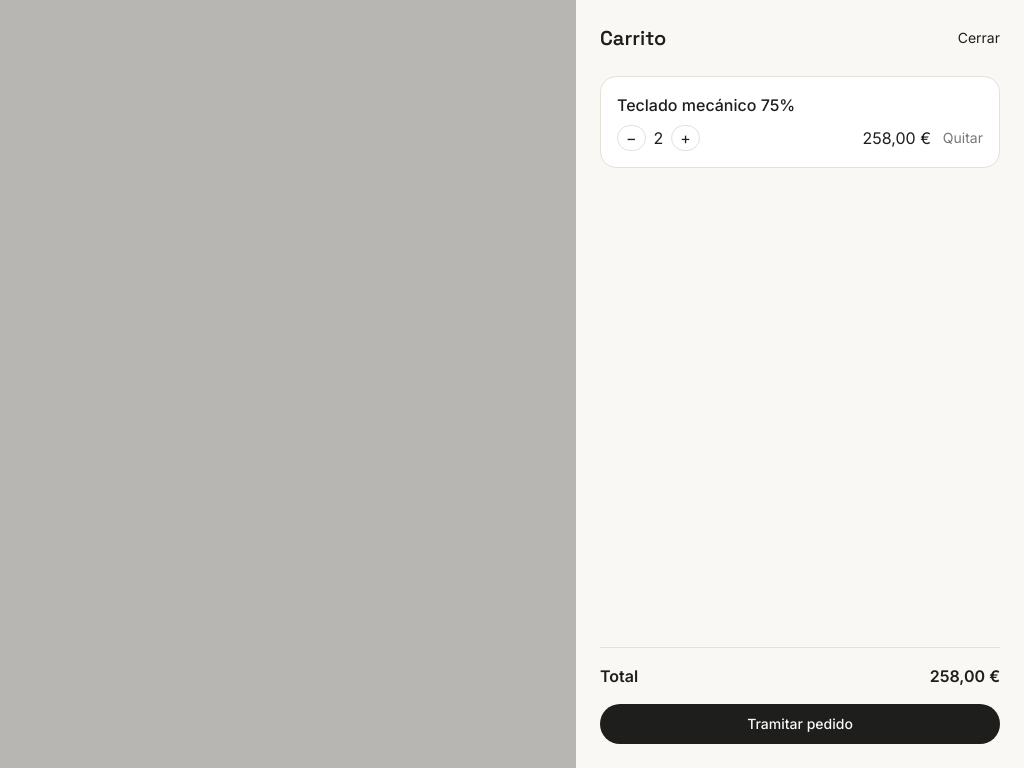
Test case: CartDrawer › updates quantity and removes lines
Step 1. Click the button named "Añadir uno de Teclado mecánico 75%" → (686, 138), box [671,125,700,151]
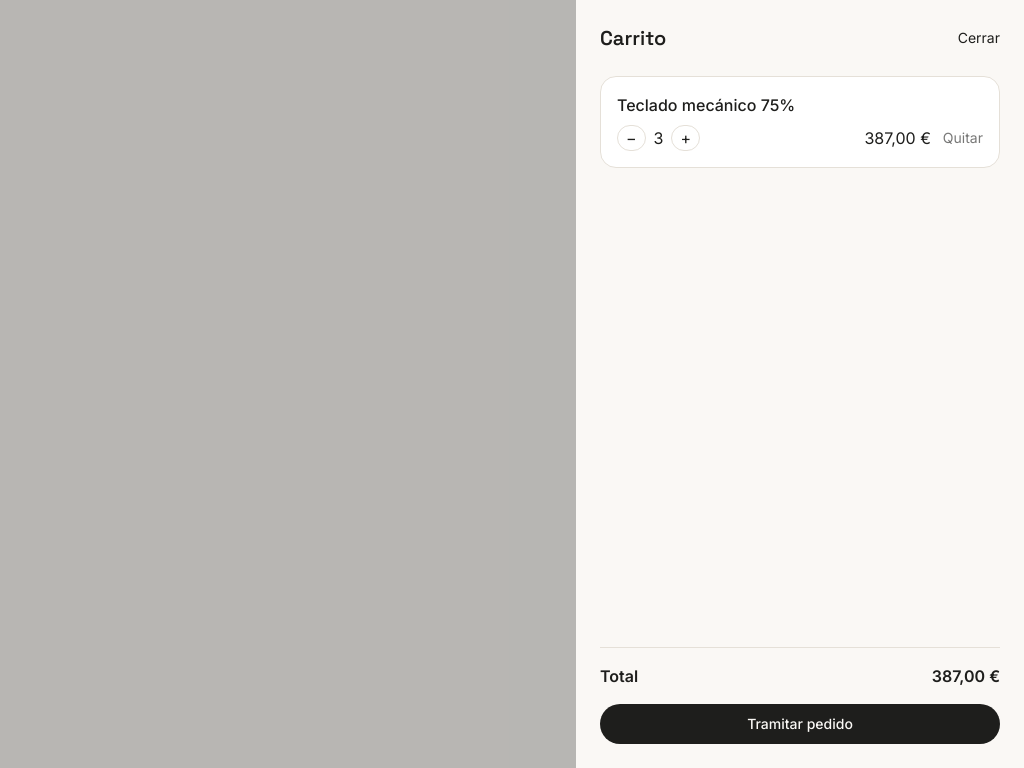
Now the text named "Cantidad" reads "3", box [654,128,664,148]
Step 2. Click the button "Quitar" → (963, 138), box [943,128,983,148]
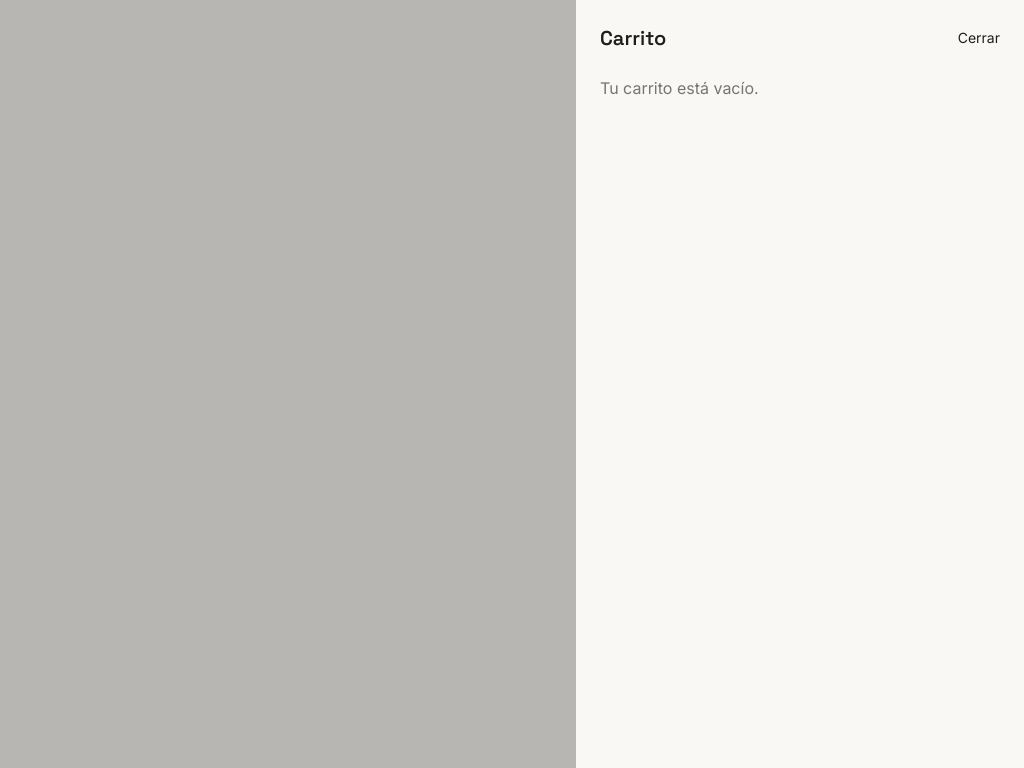
Now the text "Tu carrito está vacío." is shown, box [600,78,759,98]
